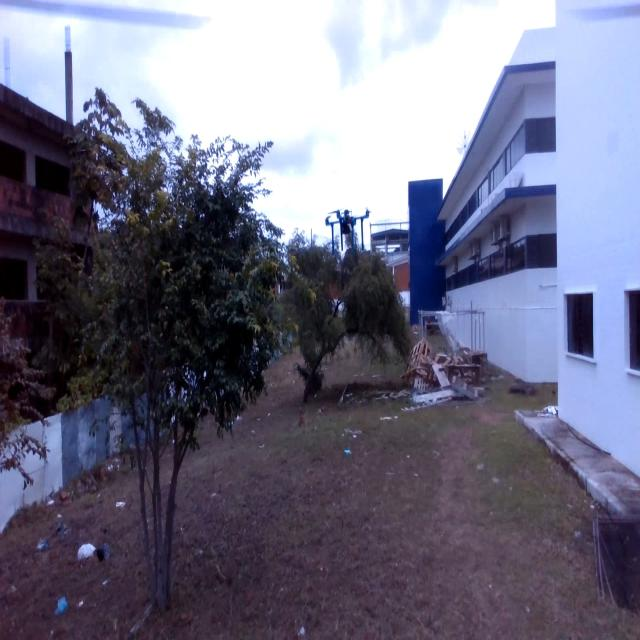-uav-: (319, 191, 374, 258)
